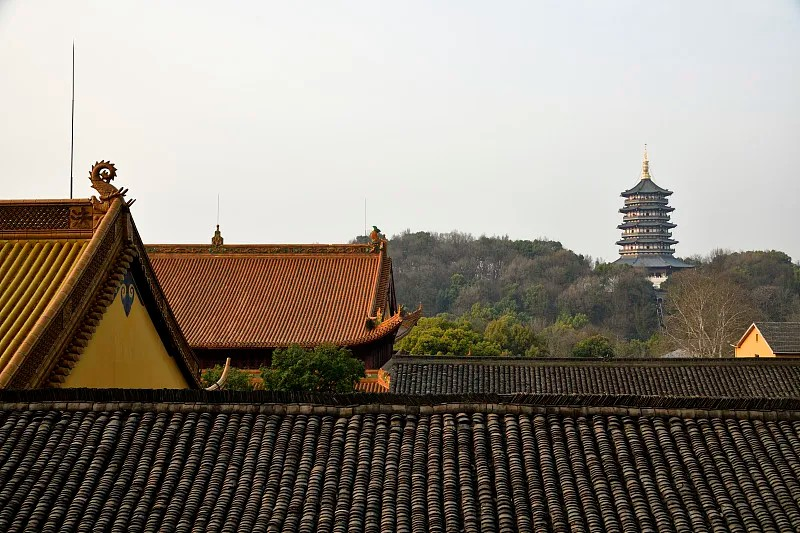Leifeng: (601, 144, 699, 288)
